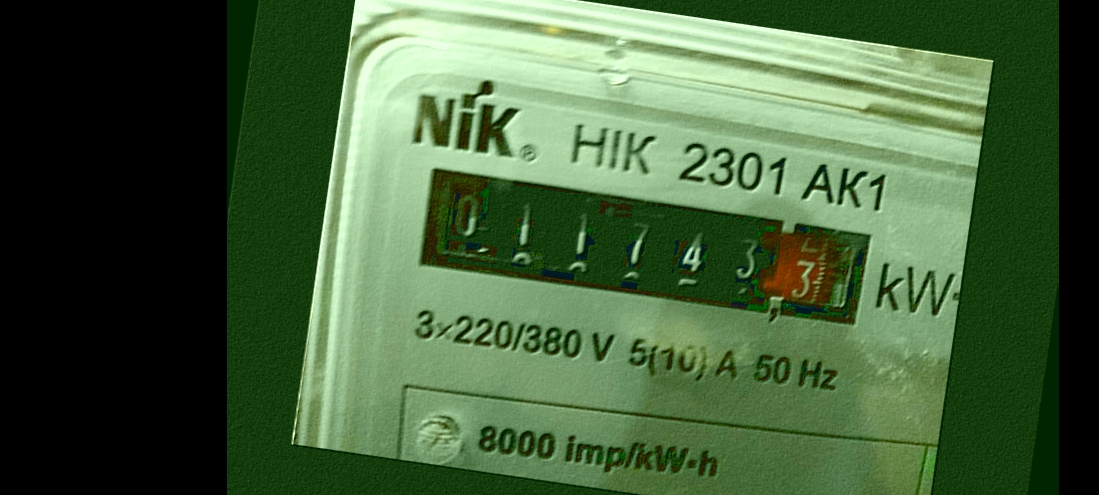0: (451, 190, 486, 241)
1: (569, 208, 597, 259), (515, 200, 538, 250)
3: (731, 234, 766, 284), (789, 256, 819, 303)
4: (678, 225, 712, 276)
7: (624, 218, 655, 269)
screen: (403, 156, 881, 340)
